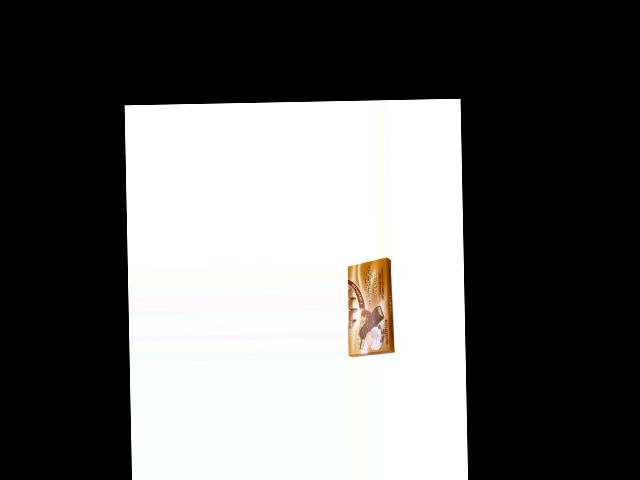chocolate: (345, 255, 394, 357)
